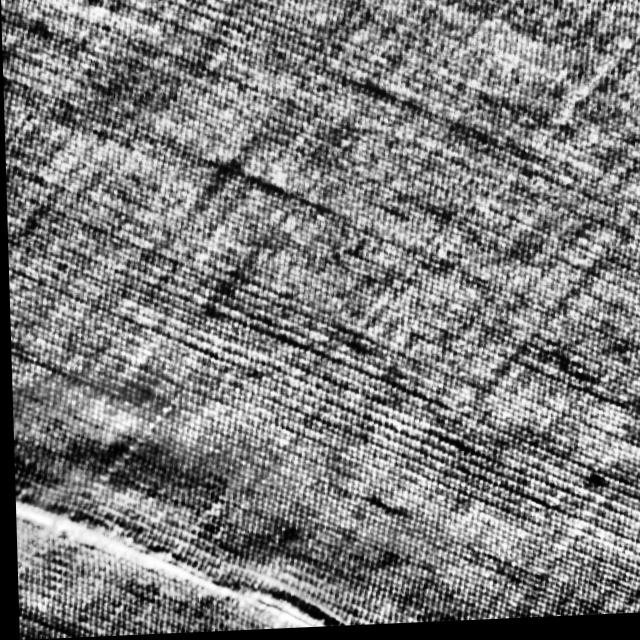Hole: (11, 471, 440, 640)
